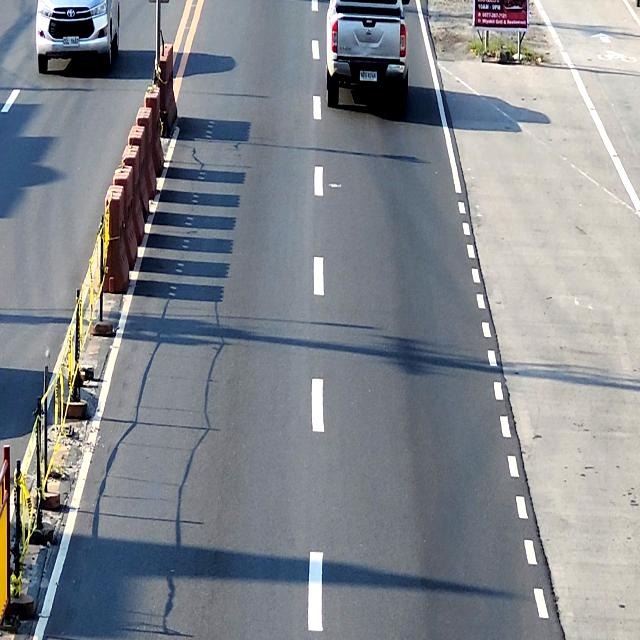Car: (327, 0, 410, 108), (34, 0, 120, 73)
License-Plate: (63, 38, 79, 48), (360, 71, 377, 80)
